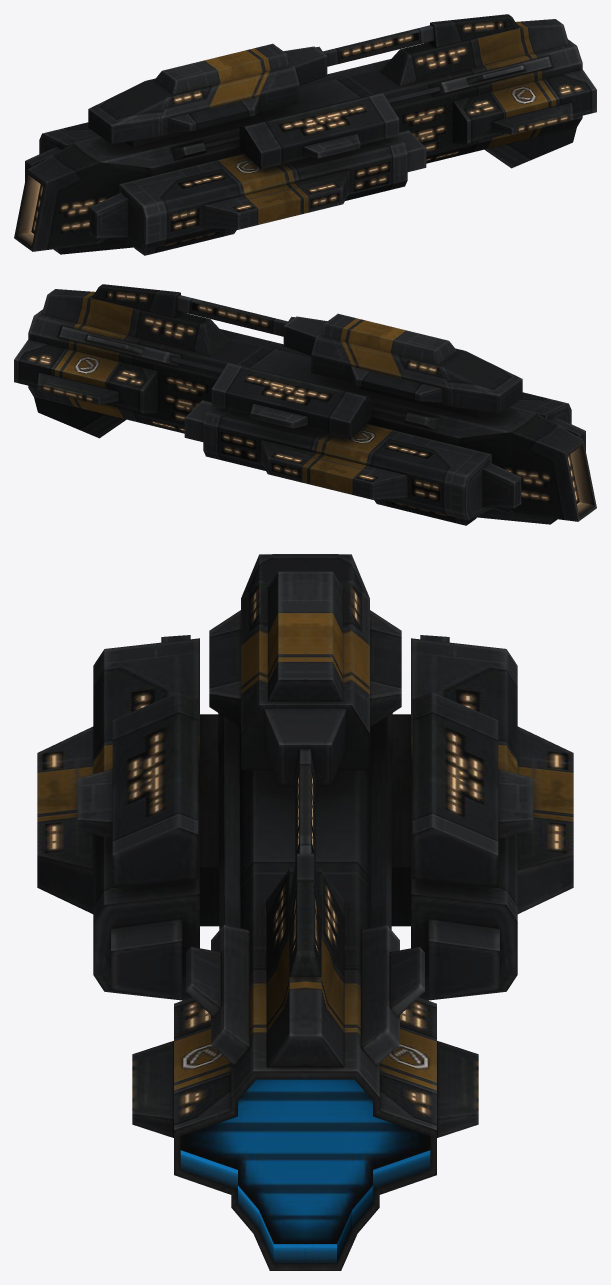
File: fl_frigate_f1.FBX
3 renders of one model, top to bottom at view 1: azimuth 30°, elevation 25°; view 2: azimuth 150°, elevation 25°; view 3: azimuth 270°, elevation 25°, orthographic. The views are drawn at different scales.
Visible parts, largest first — view 1: space_battleship_5; view 2: space_battleship_5; view 3: space_battleship_5.
Boxes of the visible parts, left/top/right/bottom form: space_battleship_5: left=14, top=14, right=596, bottom=255; space_battleship_5: left=14, top=284, right=596, bottom=525; space_battleship_5: left=37, top=554, right=573, bottom=1270.
Bounding box in the file's own units: 605 × 181 × 260.
Materials: 1 (1 with a texture image).
